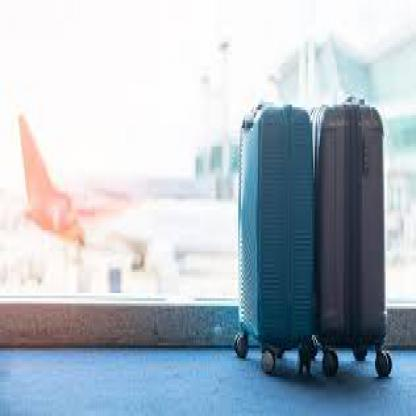maleta: (225, 91, 324, 384), (308, 86, 396, 385)
